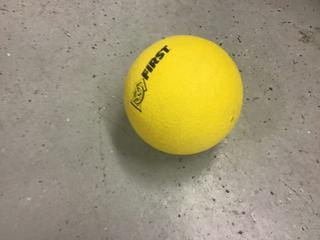power_cell: (122, 35, 246, 154)
